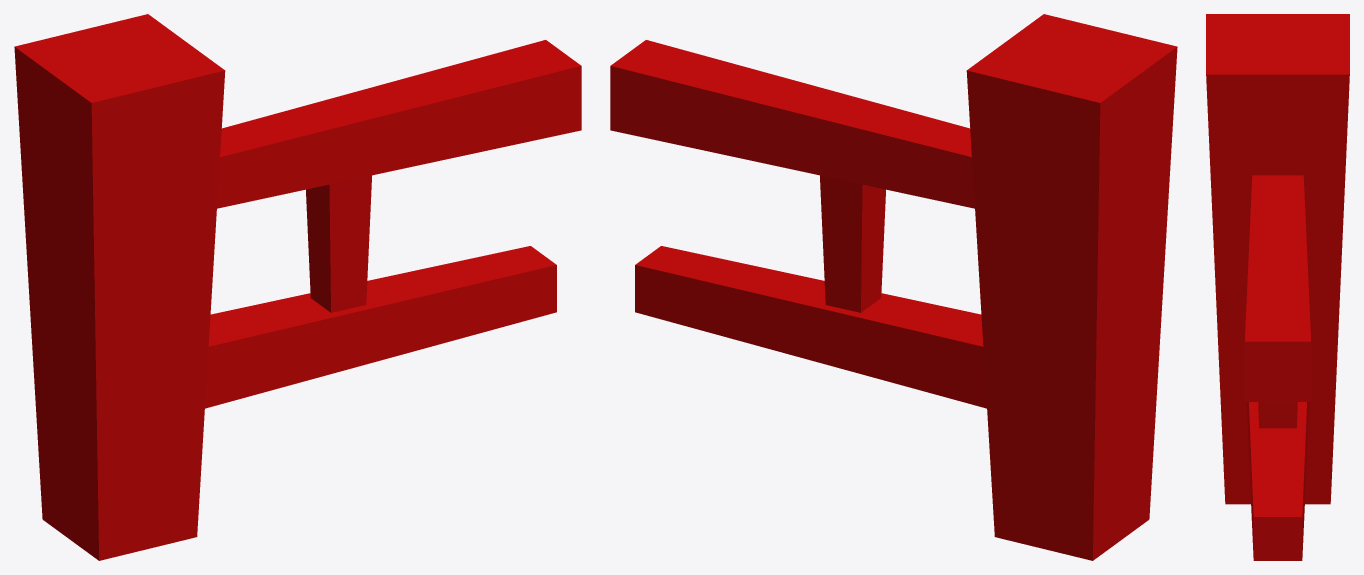
The model's file is FenceSegment_SM.fbx.
3 renders of one model, left to right at view 1: azimuth 30°, elevation 25°; view 2: azimuth 150°, elevation 25°; view 3: azimuth 270°, elevation 25°, orthographic. The views are drawn at different scales.
Visible parts, largest first — view 1: FenceSegment_SM; view 2: FenceSegment_SM; view 3: FenceSegment_SM.
Part boxes in pixels (x1,y1,x2,y2): FenceSegment_SM: [14, 14, 581, 560]; FenceSegment_SM: [610, 14, 1177, 560]; FenceSegment_SM: [1206, 14, 1349, 560].
Bounding box in the file's own units: 39.62 × 34.83 × 10.37.
